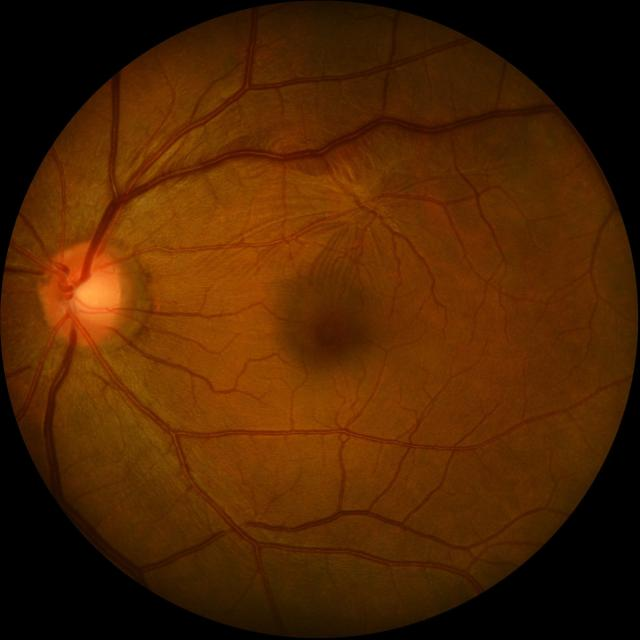OC: (72, 277, 106, 312)
OD: (41, 244, 120, 342)
